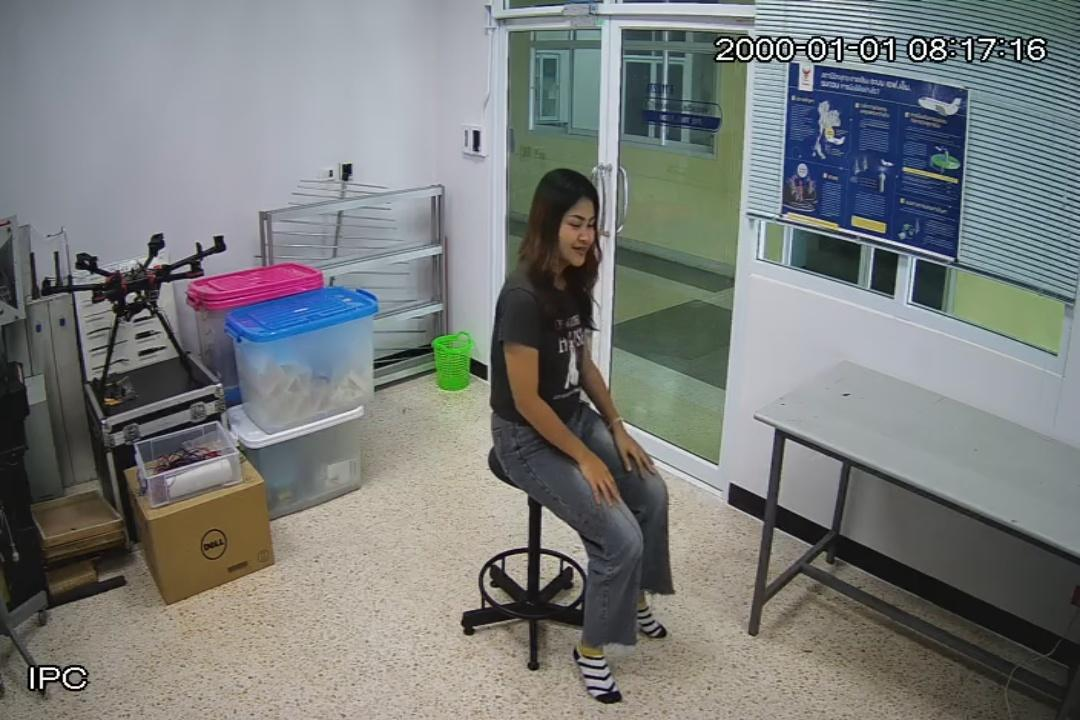normal: (487, 163, 676, 710)
